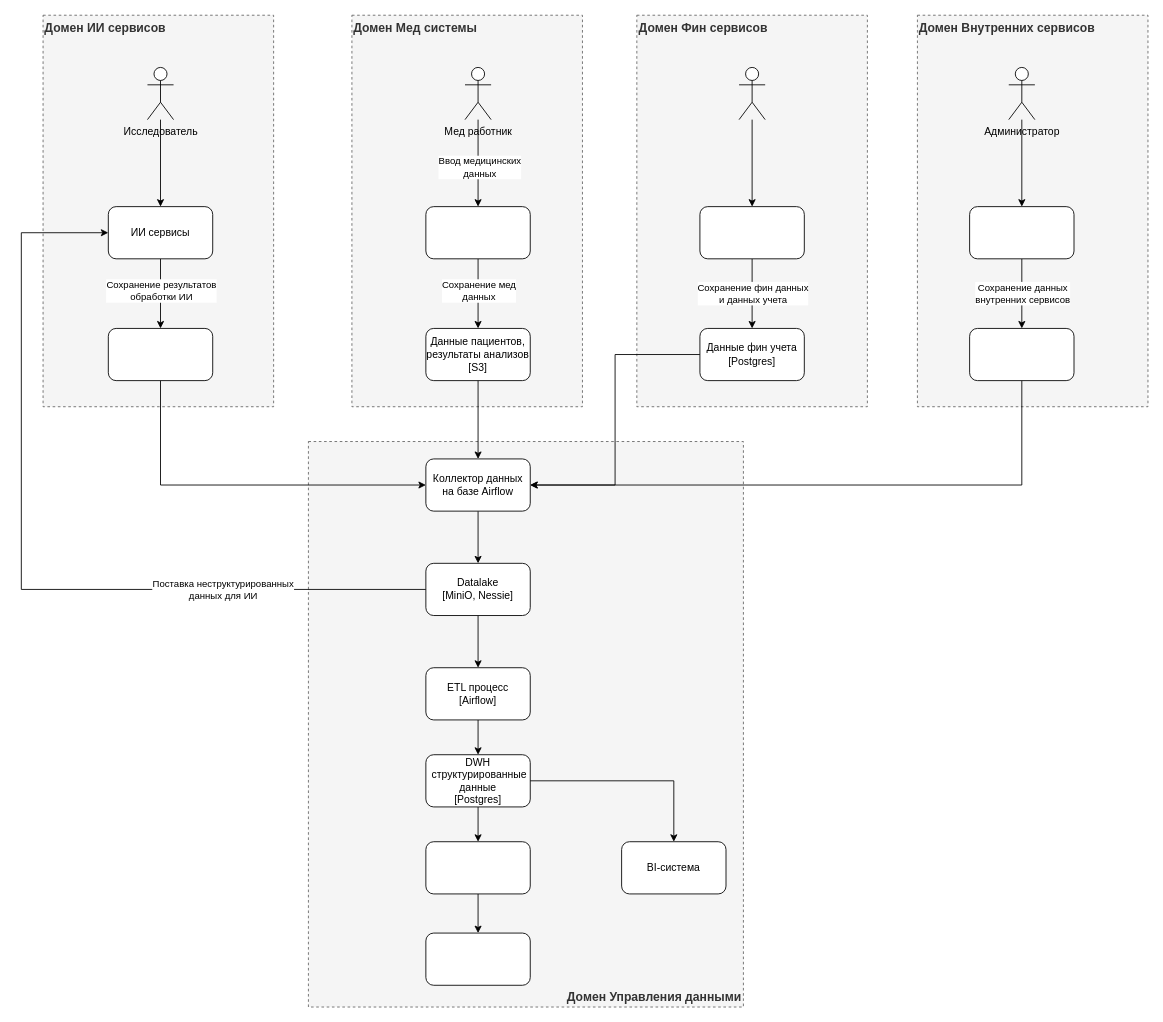
Some shapes in this 1163 by 1022 pixel diagram are drawn without their labels. The centre of each missing label's shape, as x and y in pixels:
"Бухгалтер" goes at pixel 751 93.
"Внутренние сервисы" goes at pixel 1021 232.
"Данные внутренних сервисов [Postgres]" goes at pixel 1021 354.
"Мед система" goes at pixel 477 232.
"Портал витрин [React]" goes at pixel 477 958.
"Результаты ИИ [графовая БД]" goes at pixel 160 354.
"Сервис подготовки витрин данных [Spark]" goes at pixel 477 867.
"Финансовые сервисы" goes at pixel 751 232.
